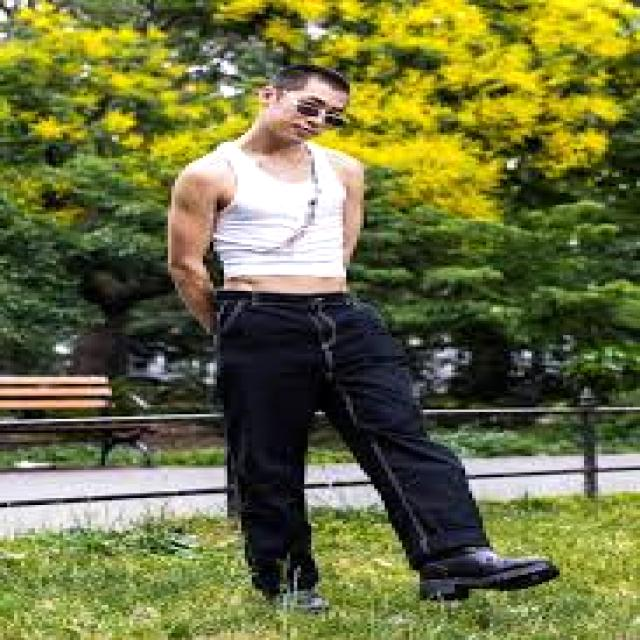face: (259, 77, 349, 141)
foot-wear: (420, 547, 559, 600), (270, 589, 328, 614)
lower-wear: (217, 291, 489, 593)
top-wear: (205, 138, 345, 278)
